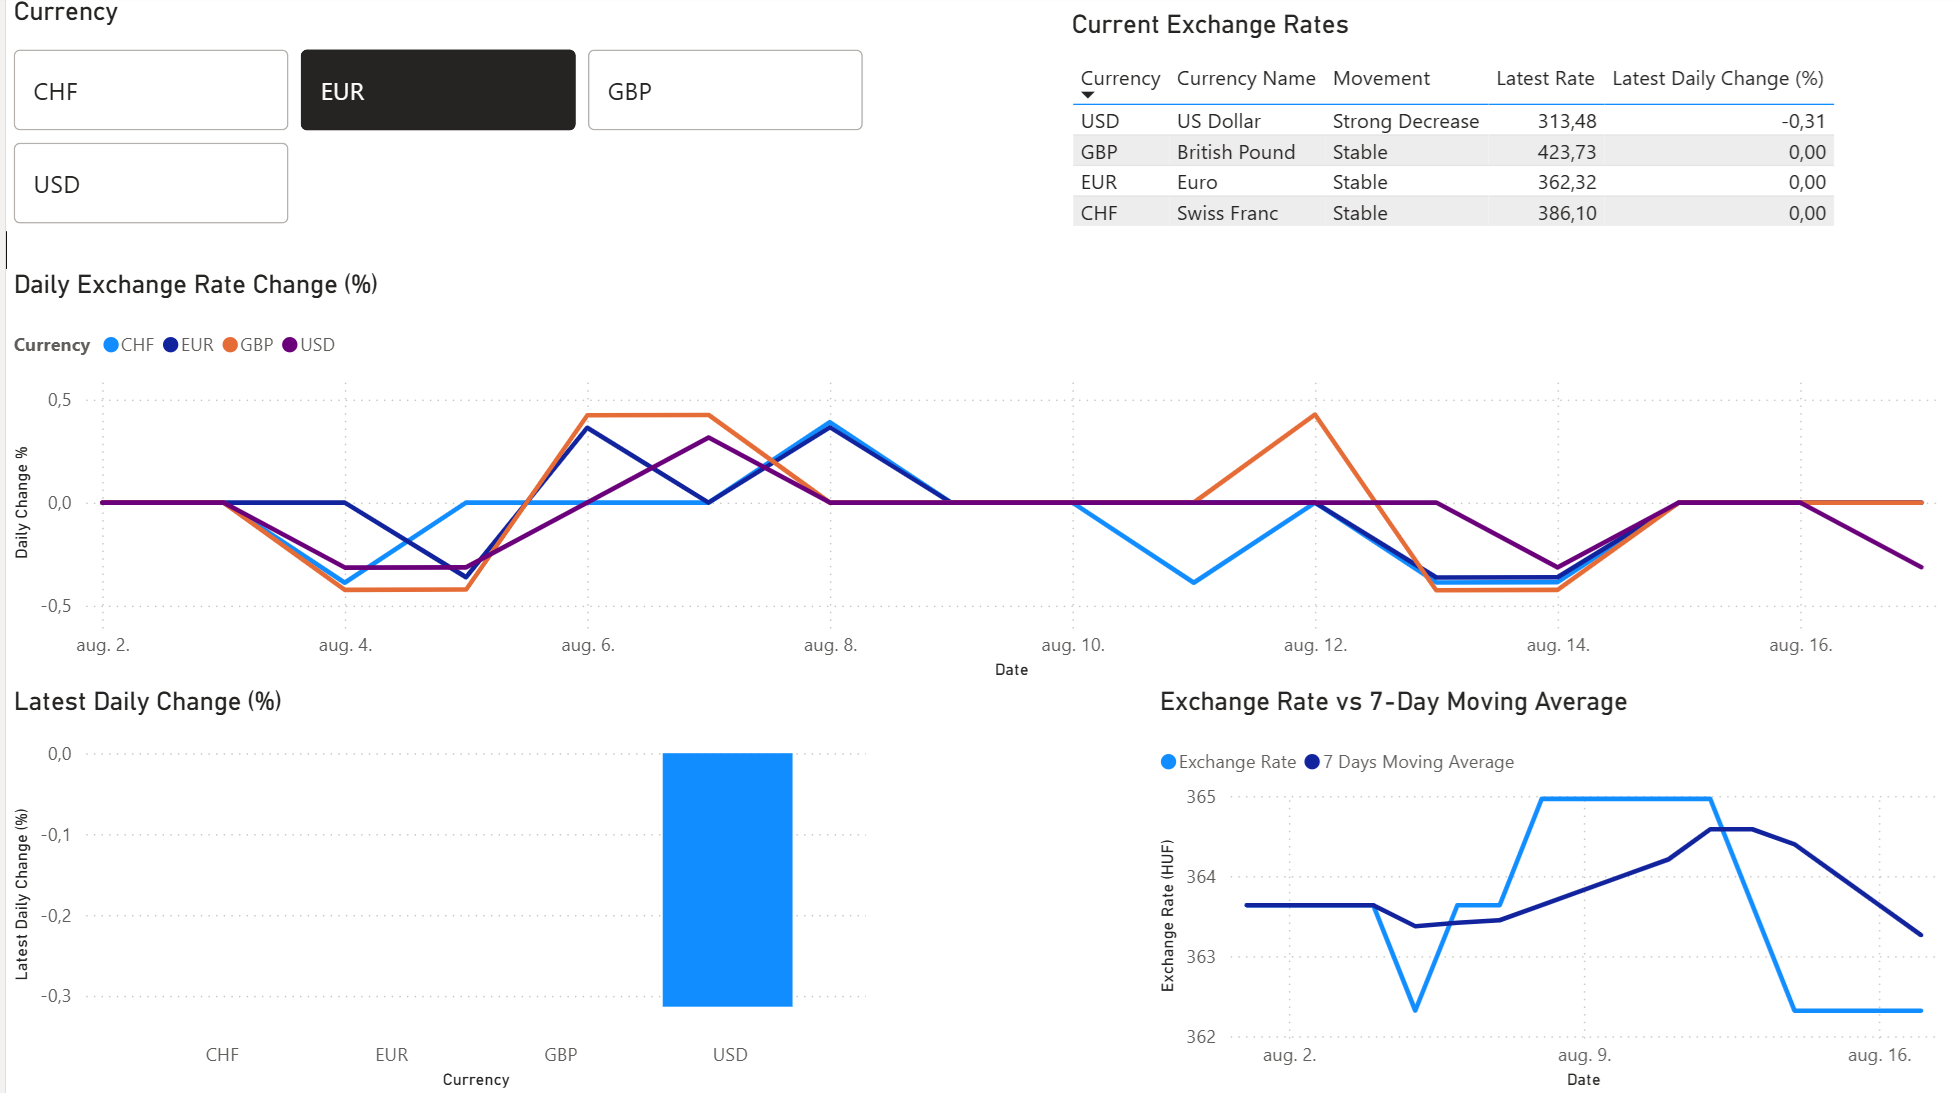

Layout of this report page (visuals, bound fields, positions):
{"tool":"powerbi","page":{"name":"Page 1","canvas":[1280,720],"ordinal":0},"visuals":[{"type":"lineChart","title":"Daily Exchange Rate Change (%)","fields":{"Category":["public vw_rate_changes.rate_date"],"Series":["public vw_rate_changes.base_currency"],"Y":["public vw_rate_changes.Daily Change"]},"box":[0,178.7,1280,272.9],"z":1},{"type":"tableEx","title":"Current Exchange Rates","fields":{"Values":["public vw_rate_changes.base_currency","public vw_rate_changes.Currencies.currency_name","public vw_rate_changes.movement_category","public vw_rate_changes.Latest Rate","public vw_rate_changes.Latest Daily Change"]},"box":[693,8.5,587,170.1],"z":2},{"type":"clusteredColumnChart","title":"Latest Daily Change (%)","fields":{"Category":["public vw_rate_changes.base_currency"],"Y":["public vw_rate_changes.Latest Daily Change"]},"box":[0,451.5,568,268.3],"z":3},{"type":"lineChart","title":"Exchange Rate vs 7-Day Moving Average","fields":{"Category":["public vw_rate_changes.rate_date"],"Y":["public vw_rate_changes.Exchange Rate","public vw_rate_changes.7 Days Moving Average"]},"box":[750.6,451.5,529.4,268.3],"z":4},{"type":"advancedSlicerVisual","title":"Currency","fields":{"Values":["public vw_rate_changes.base_currency"]},"box":[0,0,568,154.4],"z":5}]}

Visuals, with their boxes in screenshot pixels (x1, y1, x2, y2), scaled from the page's 1280x720 canvas onto the 1958x1093 screenshot:
"Daily Exchange Rate Change (%)" lineChart: bbox=[0, 271, 1957, 686]
"Current Exchange Rates" tableEx: bbox=[1060, 13, 1957, 271]
"Latest Daily Change (%)" clusteredColumnChart: bbox=[0, 685, 869, 1092]
"Exchange Rate vs 7-Day Moving Average" lineChart: bbox=[1148, 685, 1957, 1092]
"Currency" advancedSlicerVisual: bbox=[0, 0, 869, 234]
